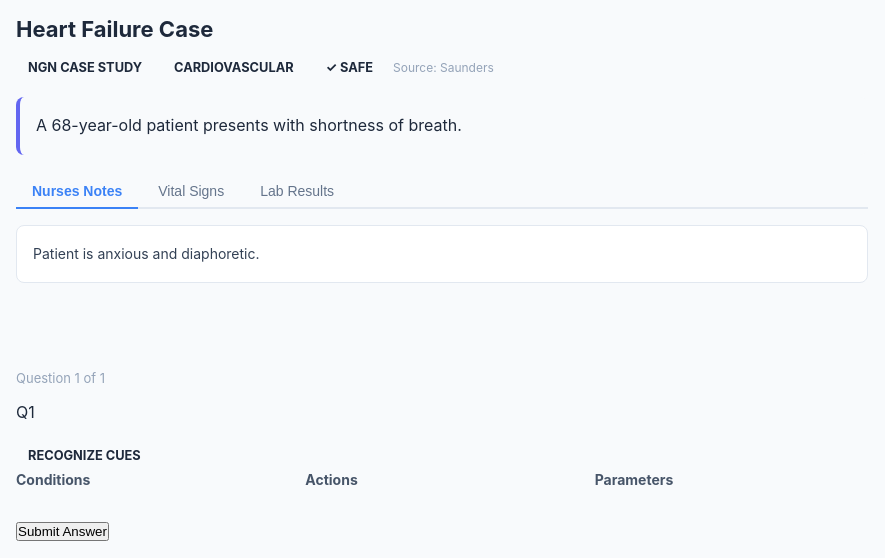
Test case: NGNCaseStudyComponent › summary shows scores for each question
This screenshot has width=885, height=558.
Step 1. Click the button "Submit Answer" → (62, 532), box [16,522,109,541]
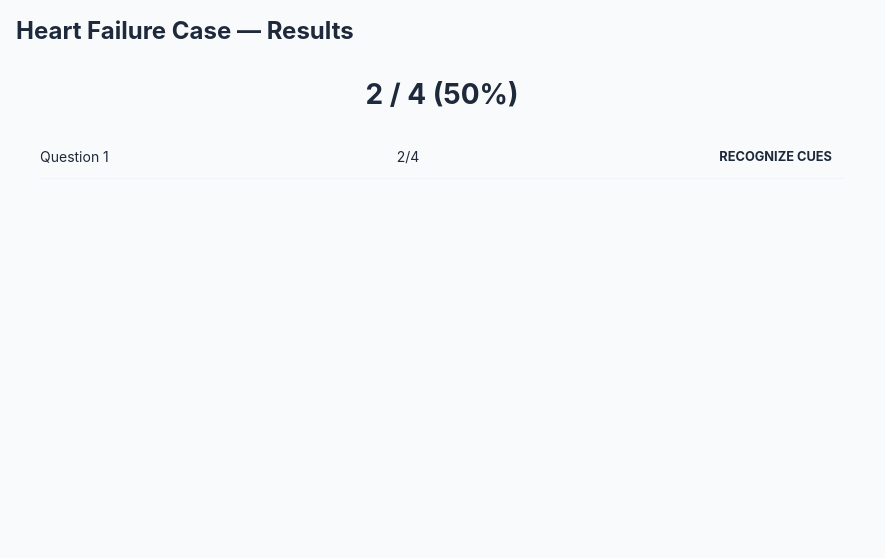
Result: the heading "Heart Failure Case — Results" is shown at [16,16,354,45]
Result: the text "2 / 4 (50%)" is shown at [365,77,519,111]
Result: the text "2/4" is shown at [397,146,419,167]
